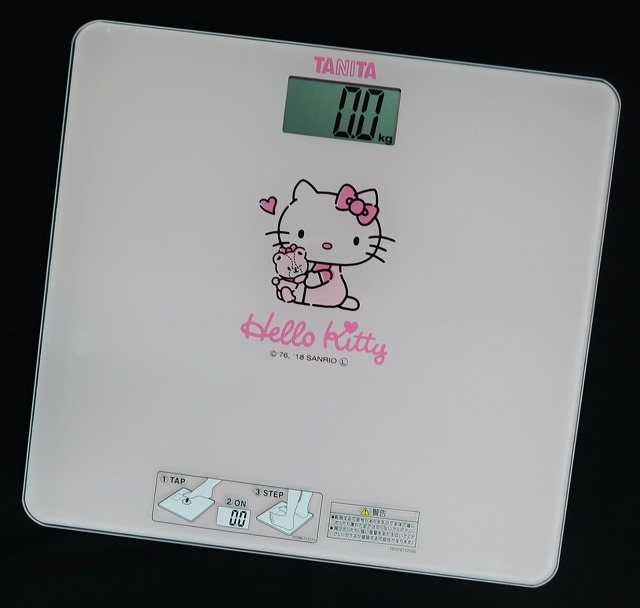LCD: (281, 75, 403, 148)
